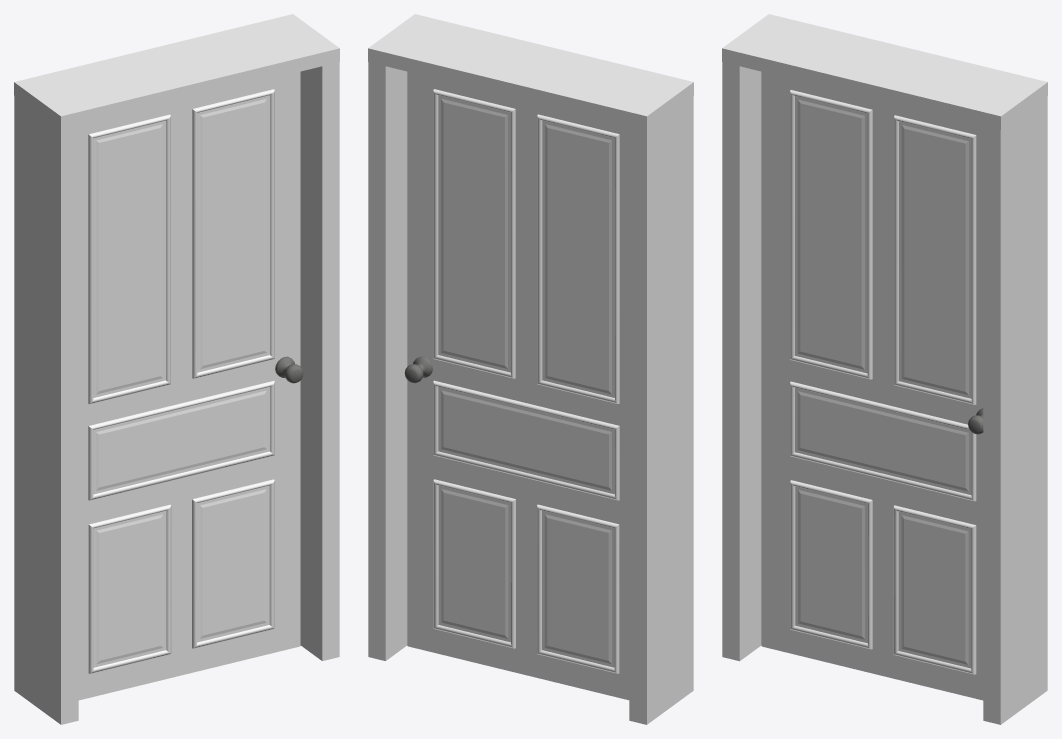
Rendered from Door_01.fbx.
3 renders of one model, left to right at view 1: azimuth 30°, elevation 25°; view 2: azimuth 150°, elevation 25°; view 3: azimuth 330°, elevation 25°, orthographic.
Visible parts, largest first — view 1: Door_01, Door_01_Frame; view 2: Door_01, Door_01_Frame; view 3: Door_01, Door_01_Frame.
Boxes of the visible parts, x1,y1,x2,y2 form: Door_01: (78,71,303,700); Door_01_Frame: (14,14,339,724); Door_01: (404,71,629,700); Door_01_Frame: (368,14,693,724); Door_01: (761,71,983,700); Door_01_Frame: (722,14,1047,724).
Size of the model in its own units: 1.03 by 2.15 by 0.3.
